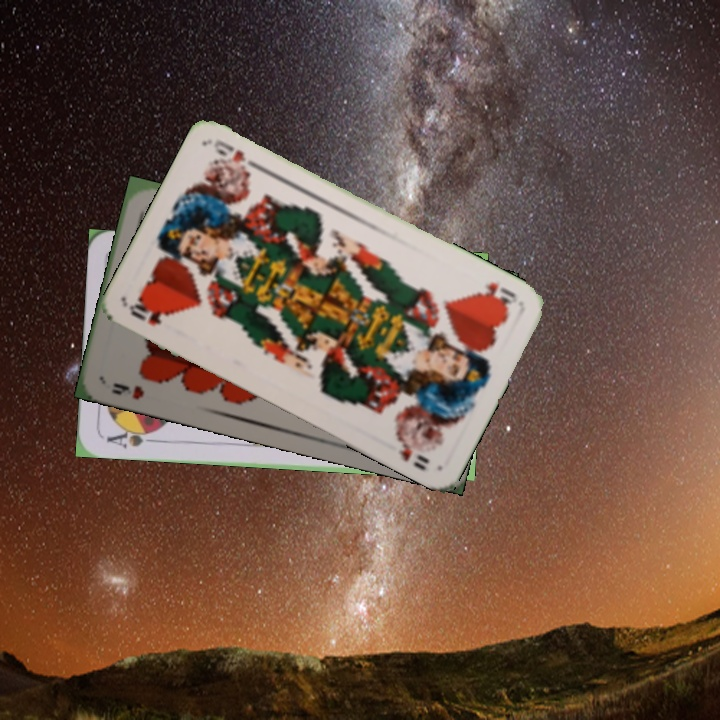H9: (107, 378, 147, 402)
HO: (125, 296, 172, 329), (473, 277, 520, 310)
SA: (103, 424, 161, 451)
